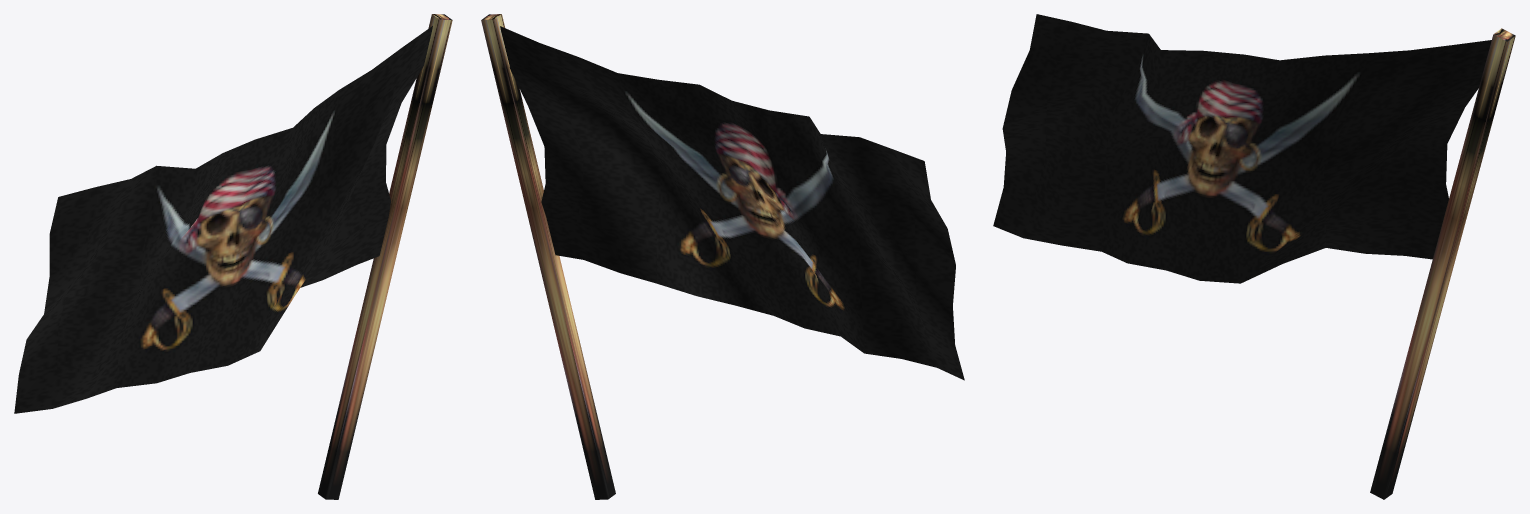
The model's file is view.ico.obj.
3 renders of one model, left to right at view 1: azimuth 30°, elevation 25°; view 2: azimuth 150°, elevation 25°; view 3: azimuth 330°, elevation 25°, orthographic. The views are drawn at different scales.
Bounding box in the file's own units: 5 × 4.76 × 0.749.
1 material, 1 textured.
